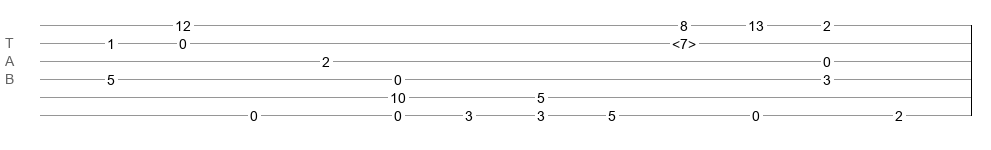0: (179, 36, 187, 46), (250, 108, 258, 118), (394, 108, 402, 118), (394, 72, 402, 82), (752, 108, 760, 118), (823, 54, 831, 64)
1: (107, 36, 115, 46)
10: (390, 90, 406, 100)
12: (175, 18, 191, 28)
13: (748, 18, 764, 28)
2: (322, 54, 330, 64), (823, 18, 831, 28), (895, 108, 903, 118)
3: (465, 108, 473, 118), (537, 108, 545, 118), (823, 72, 831, 82)
5: (107, 72, 115, 82), (537, 90, 545, 100), (608, 108, 616, 118)
8: (680, 18, 688, 28)
harmonic: (672, 36, 696, 46)
